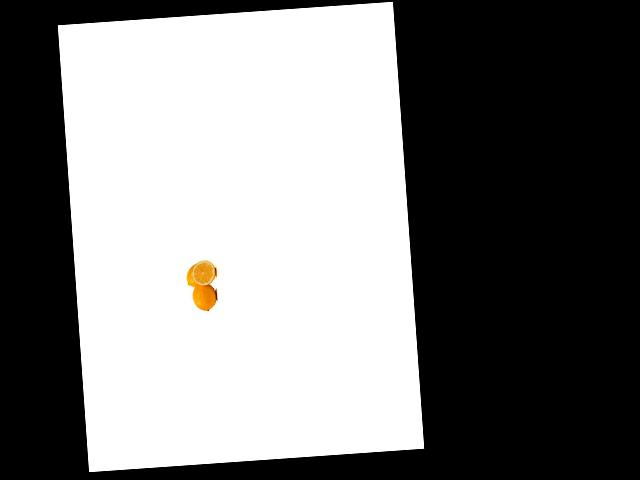lemon: (183, 257, 210, 289)
